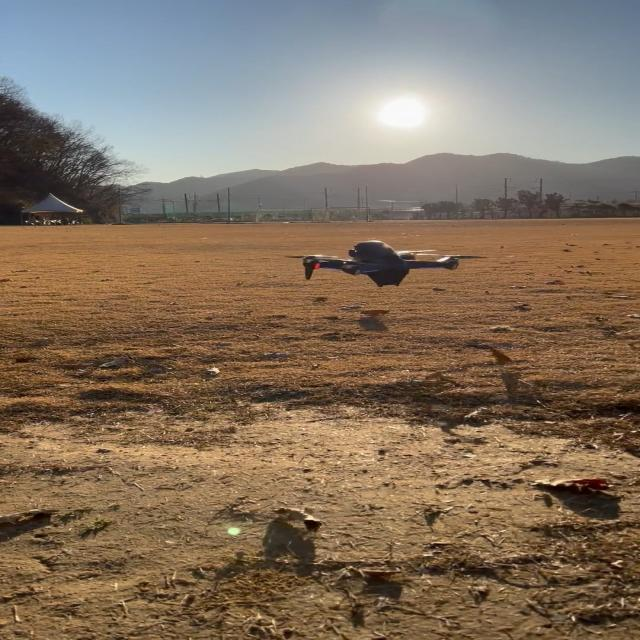drone: (283, 239, 484, 287)
